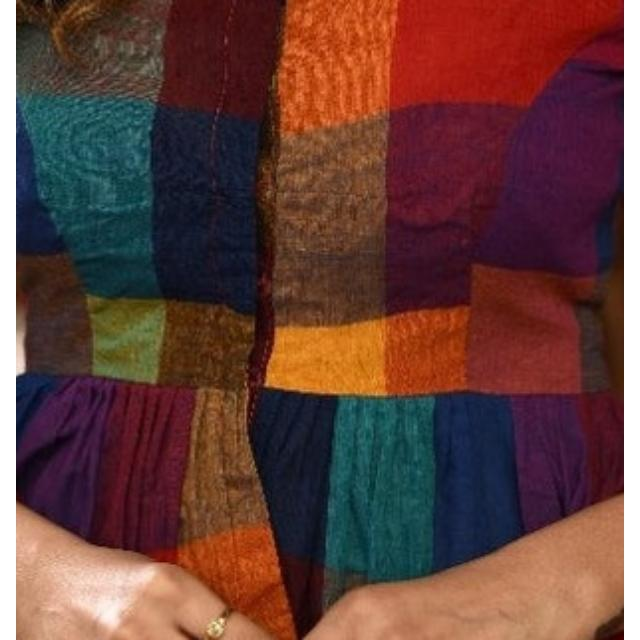cotton: (114, 0, 620, 496)
